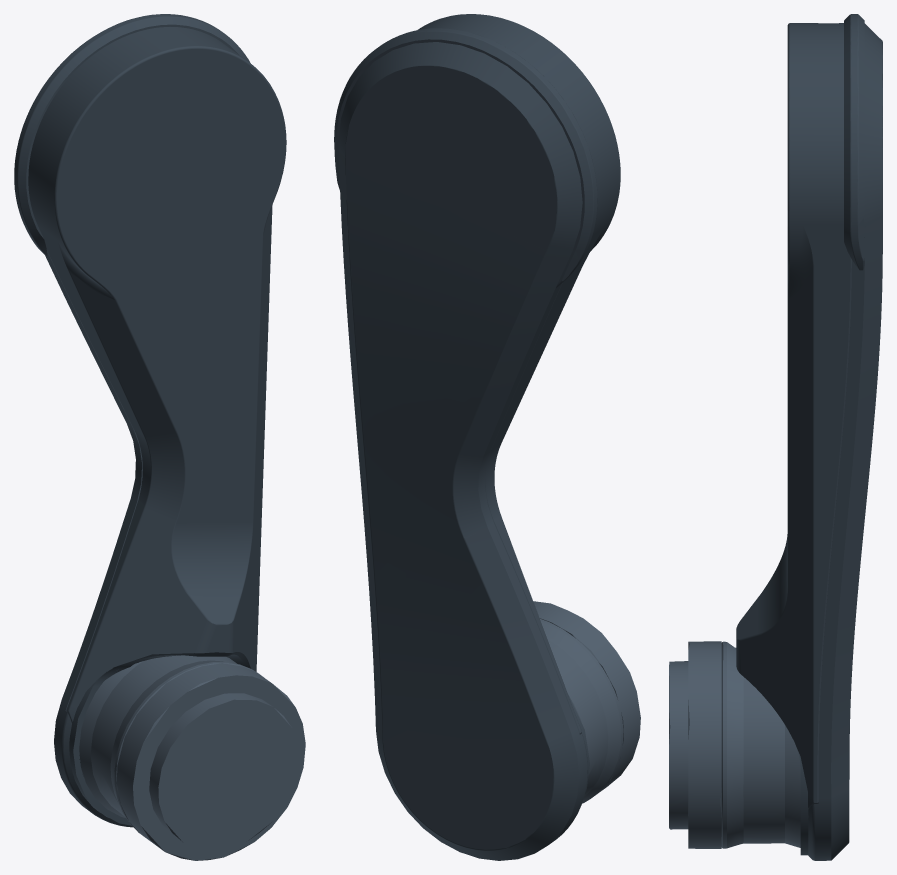
File: fr_knee.dae
3 renders of one model, left to right at view 1: azimuth 30°, elevation 25°; view 2: azimuth 150°, elevation 25°; view 3: azimuth 270°, elevation 25°, orthographic. The views are drawn at different scales.
Visible parts, largest first — view 1: 移动面10, 圆角16, 圆角1, 切除-拉伸49; view 2: 圆角1, 移动面10, 切除-拉伸49, 圆角16; view 3: 移动面10, 圆角1, 切除-拉伸49, 圆角16.
Boxes of the visible parts, left/top/right/bottom form: 移动面10: left=28, top=27, right=286, bottom=825; 圆角16: left=116, top=663, right=305, bottom=860; 圆角1: left=14, top=14, right=250, bottom=827; 切除-拉伸49: left=79, top=655, right=262, bottom=833; 圆角1: left=334, top=28, right=597, bottom=860; 移动面10: left=418, top=14, right=620, bottom=791; 切除-拉伸49: left=540, top=619, right=623, bottom=803; 圆角16: left=533, top=601, right=640, bottom=791; 移动面10: left=736, top=23, right=851, bottom=855; 圆角1: left=808, top=14, right=882, bottom=860; 切除-拉伸49: left=721, top=641, right=800, bottom=848; 圆角16: left=669, top=641, right=721, bottom=848.
Bounding box in the file's own units: 115 × 83.1 × 352.
